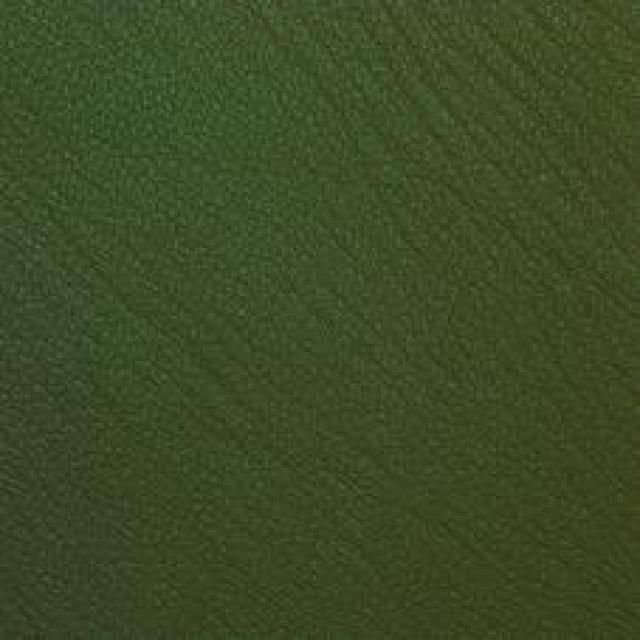Growth Marks: (330, 21, 600, 169)
